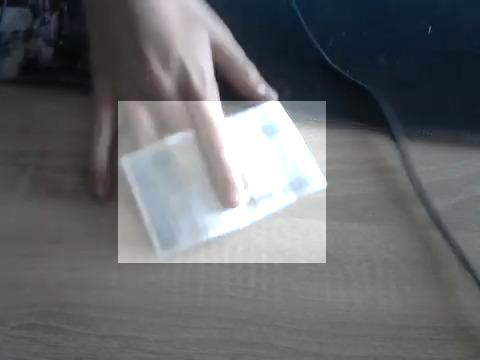20leva: (118, 101, 326, 263)
